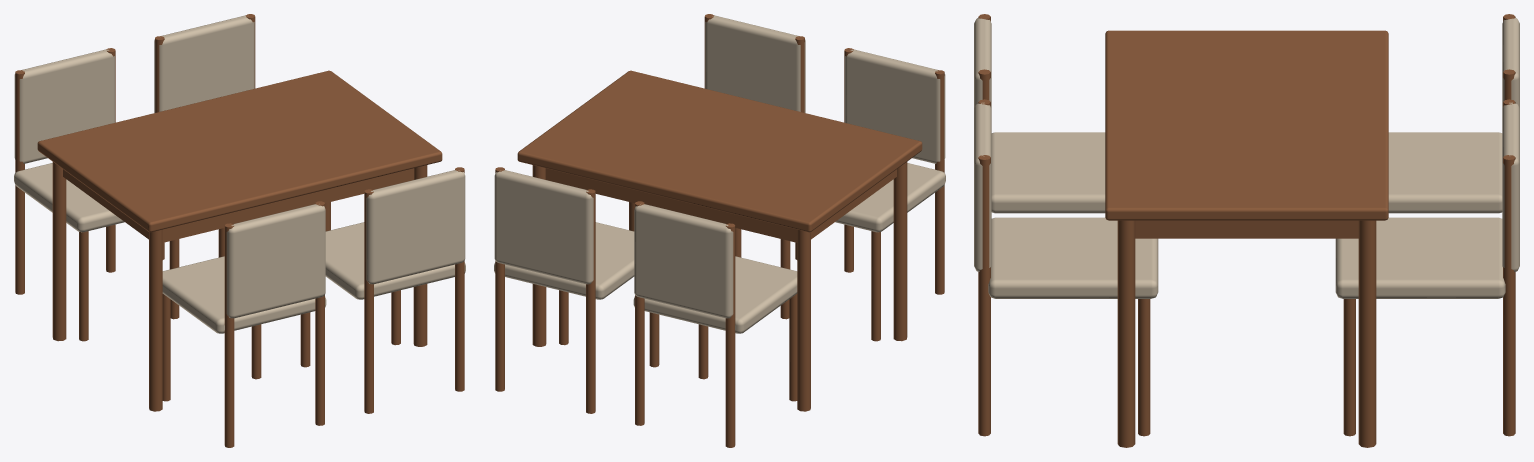
3 renders of one model, left to right at view 1: azimuth 30°, elevation 25°; view 2: azimuth 150°, elevation 25°; view 3: azimuth 270°, elevation 25°, orthographic. The views are drawn at different scales.
Visible parts, largest first — view 1: top, chair-back-1-back, chair-back-2-back, chair-front-1-back, chair-front-2-back, chair-back-1-seat, apron, chair-back-2-seat, chair-front-1-seat, leg-1, leg-3, chair-back-1-leg-back-left (+13 smaller); view 2: top, chair-front-1-back, chair-front-2-back, chair-back-1-back, chair-back-2-back, chair-front-1-seat, apron, chair-front-2-seat, chair-back-1-seat, leg-3, leg-1, chair-front-1-leg-back-right (+13 smaller); view 3: top, chair-back-2-seat, chair-front-2-seat, chair-back-1-seat, chair-front-1-seat, leg-2, leg-4, apron, chair-back-2-leg-back-right, chair-front-2-leg-back-left, chair-back-2-back, chair-front-2-back (+4 smaller).
Boxes of the visible parts, x1,y1,x2,y2 form: top: (37, 70, 442, 232); chair-back-1-back: (226, 204, 325, 318); chair-back-2-back: (366, 170, 465, 284); chair-front-1-back: (14, 49, 114, 163); chair-front-2-back: (154, 15, 254, 112); chair-back-1-seat: (162, 256, 326, 333); apron: (63, 168, 414, 242); chair-back-2-seat: (325, 222, 465, 299); chair-front-1-seat: (14, 163, 124, 232); leg-1: (52, 162, 66, 341); leg-3: (149, 229, 162, 411); chair-back-1-leg-back-left: (224, 223, 234, 447); top: (517, 70, 922, 232); chair-front-1-back: (634, 204, 733, 318); chair-front-2-back: (494, 170, 593, 284); chair-back-1-back: (845, 49, 945, 163); chair-back-2-back: (705, 15, 805, 112); chair-front-1-seat: (633, 256, 797, 333); apron: (545, 168, 896, 242); chair-front-2-seat: (494, 222, 634, 299); chair-back-1-seat: (835, 163, 945, 232); leg-3: (893, 162, 907, 341); leg-1: (797, 229, 810, 411); chair-front-1-leg-back-right: (725, 223, 735, 447); top: (1105, 30, 1388, 220); chair-back-2-seat: (988, 217, 1158, 298); chair-front-2-seat: (1335, 217, 1505, 298); chair-back-1-seat: (991, 132, 1105, 213); chair-front-1-seat: (1388, 132, 1502, 213); leg-2: (1358, 220, 1376, 447); leg-4: (1117, 220, 1135, 447); apron: (1135, 220, 1358, 238); chair-back-2-leg-back-right: (978, 155, 990, 436); chair-front-2-leg-back-left: (1503, 155, 1515, 436); chair-back-2-back: (974, 102, 991, 271); chair-front-2-back: (1502, 102, 1519, 271).
Size of the model in its own units: 1.2 by 0.86 by 1.54.
